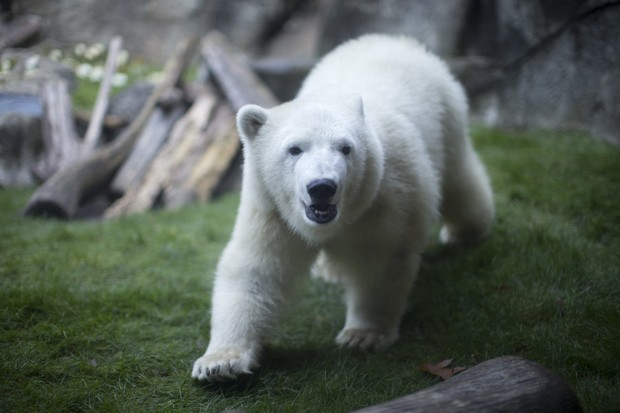Polar Bear: (181, 25, 505, 397)
